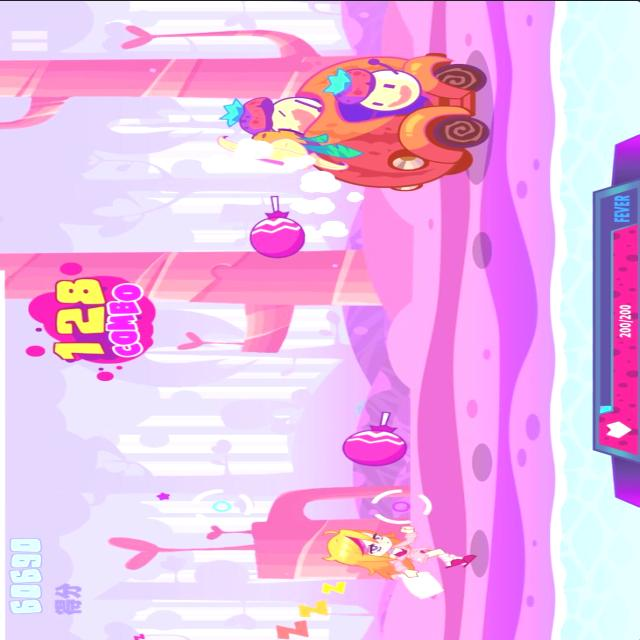cheboss: (211, 49, 493, 190)
tang: (334, 408, 412, 468), (244, 192, 306, 260)
